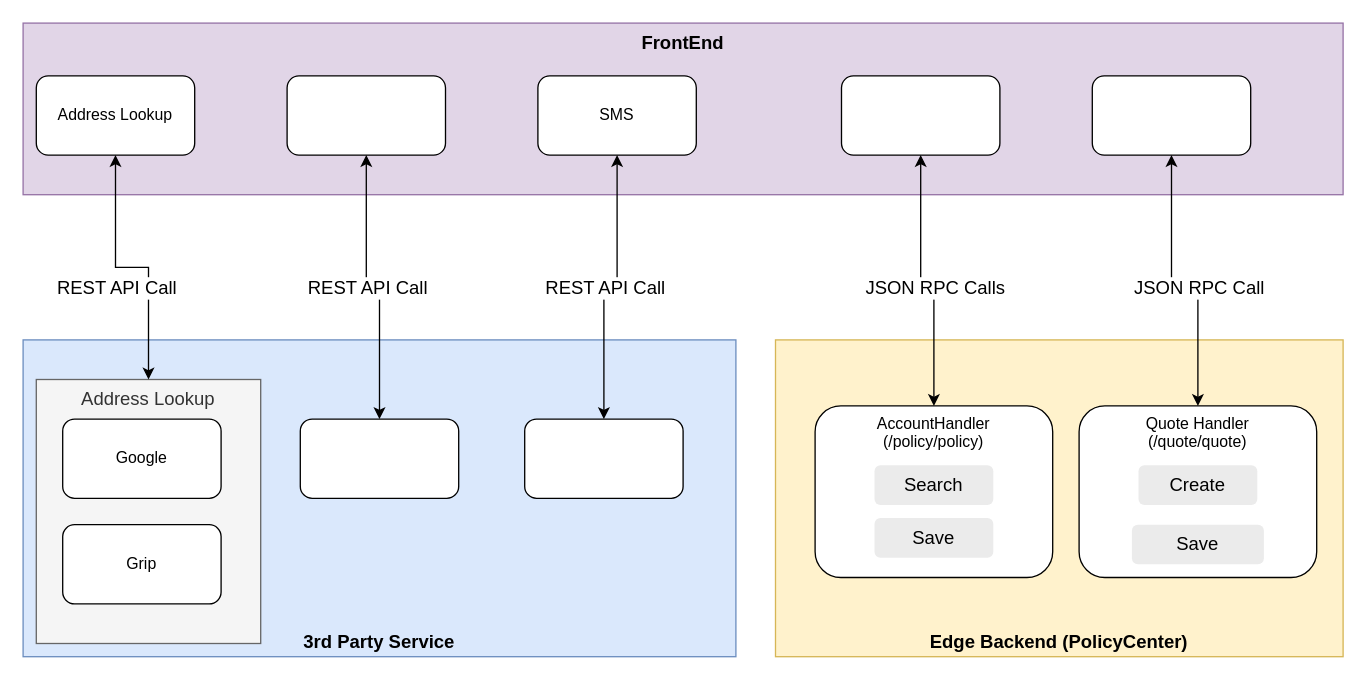
This 1366x680 diagram has some shape labels left out. Here are the shapes that lost their labels. From the top down, the centre of each, then its label:
the point at 366,115: NCB Lookup
the point at 920,115: Account
the point at 1171,115: Quote
the point at 379,458: NCB Service
the point at 603,458: SMS Service
